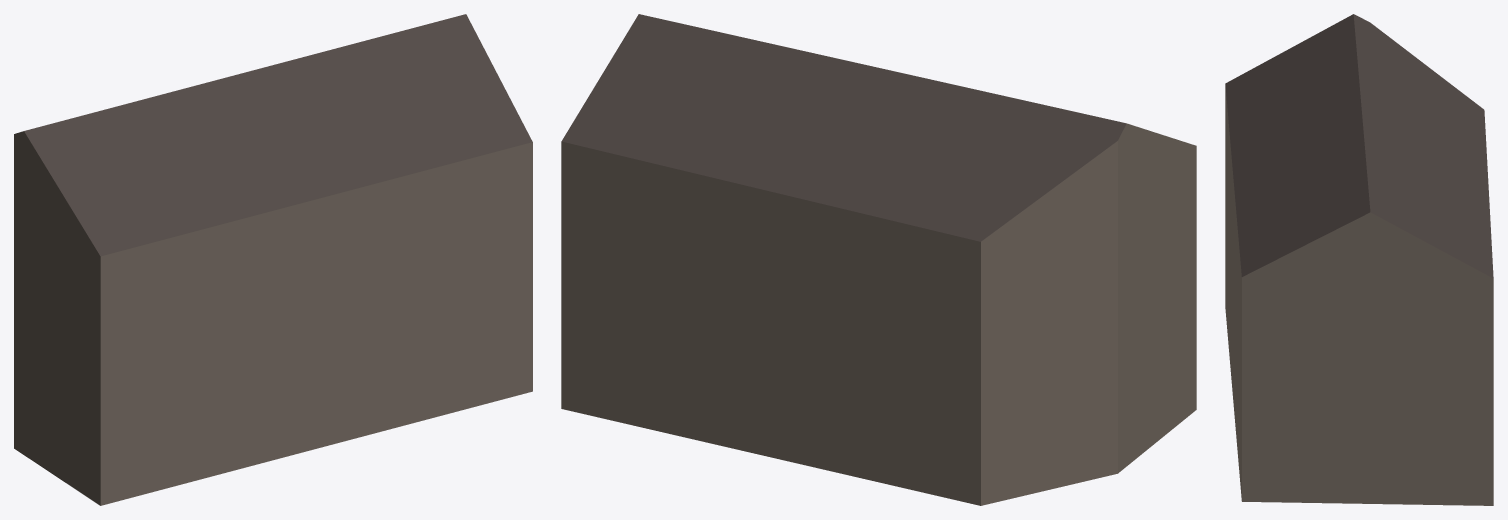
3 views of the same model, side by side, from view 1: azimuth 30°, elevation 25°; view 2: azimuth 150°, elevation 25°; view 3: azimuth 270°, elevation 25° (orthographic). The views are drawn at different scales.
Visible parts, largest first — view 1: HP-w1515071153; view 2: HP-w1515071153; view 3: HP-w1515071153.
Boxes of the visible parts, box(x1,y1,x2,y2) form: HP-w1515071153: box(14, 14, 532, 505); HP-w1515071153: box(561, 14, 1196, 505); HP-w1515071153: box(1225, 14, 1493, 505).
Bounding box in the file's own units: 11.5 × 7.79 × 6.5.
